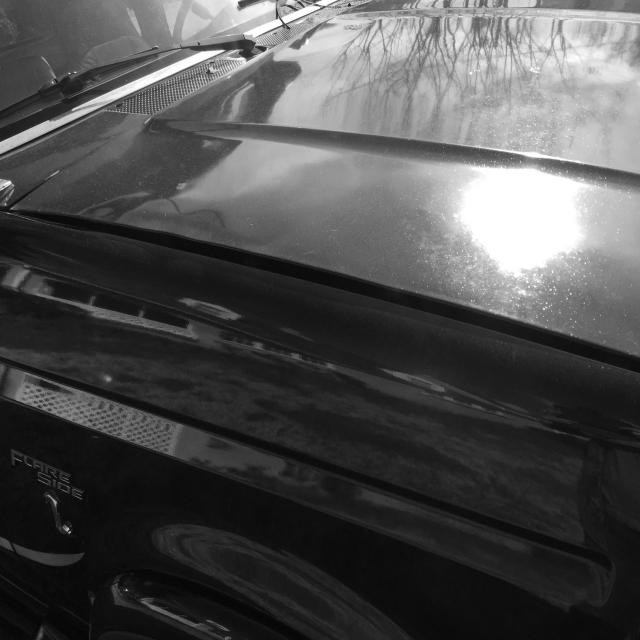misalignment: (19, 212, 640, 373)
